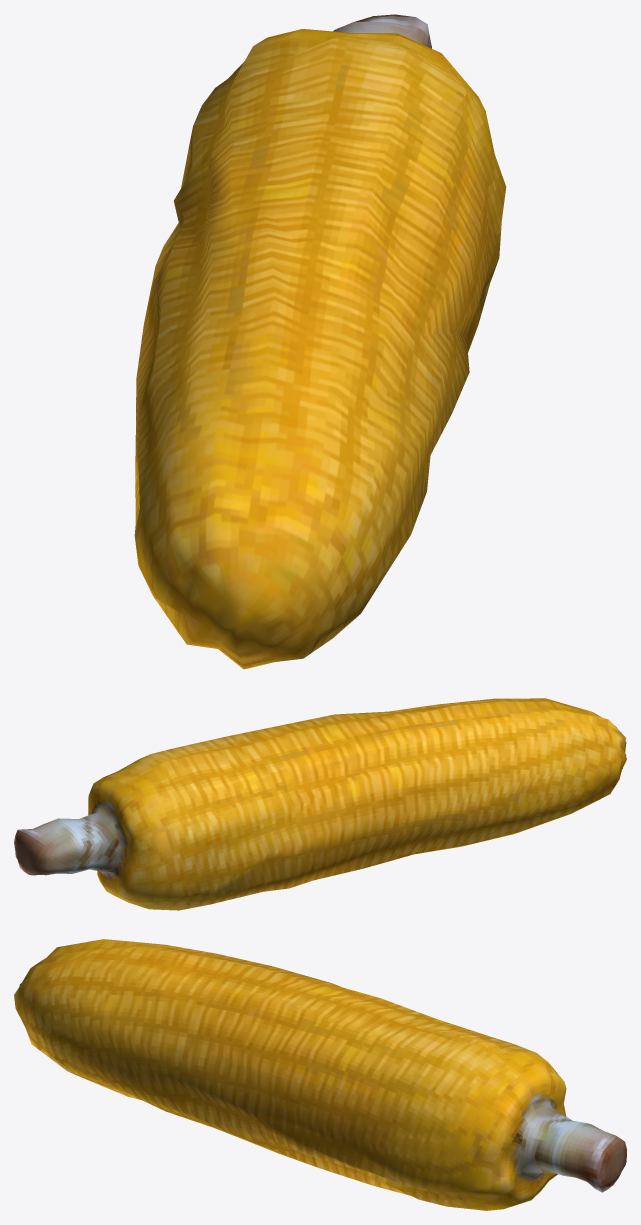
Rendered from ref_corn.fbx.
The picture shows the model from 3 angles, top to bottom: view 1: azimuth 30°, elevation 25°; view 2: azimuth 150°, elevation 25°; view 3: azimuth 270°, elevation 25°; orthographic projection. The views are drawn at different scales.
Visible parts, largest first — view 1: ref_corn; view 2: ref_corn; view 3: ref_corn.
Boxes of the visible parts, bbox=[...] form: ref_corn: bbox=[134, 14, 506, 669]; ref_corn: bbox=[14, 698, 626, 910]; ref_corn: bbox=[14, 939, 626, 1210].
Size of the model in its own units: 77.85 by 29.59 by 100.
Materials: 1 (1 with a texture image).
